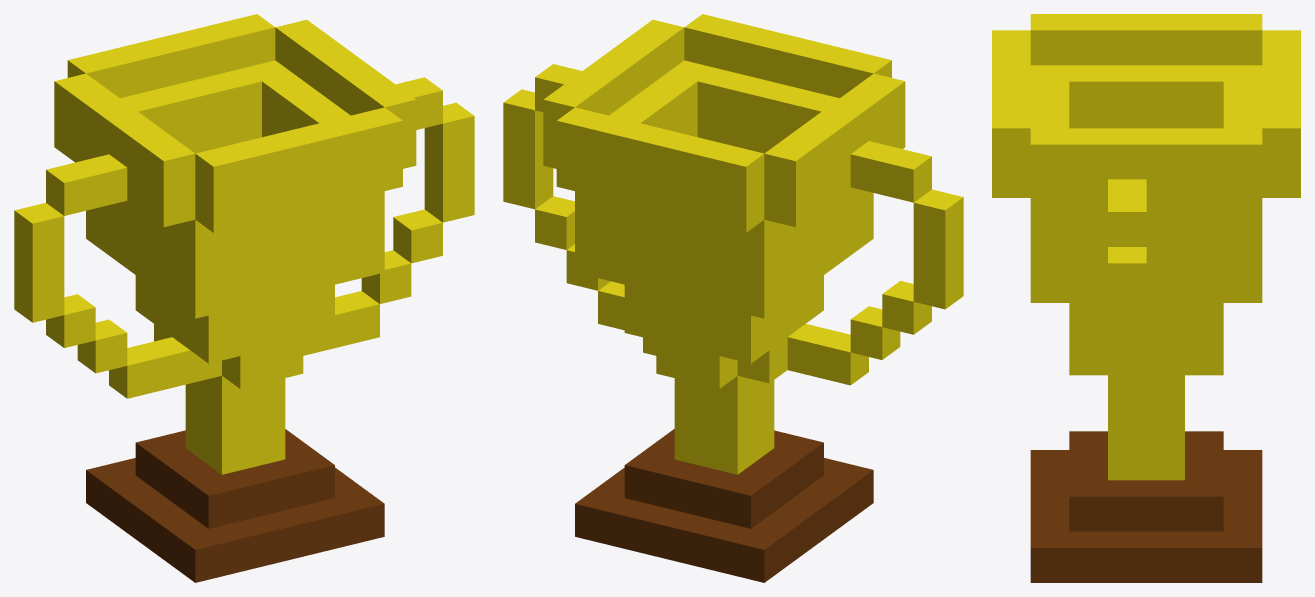
File: trophy.obj
3 renders of one model, left to right at view 1: azimuth 30°, elevation 25°; view 2: azimuth 150°, elevation 25°; view 3: azimuth 270°, elevation 25°, orthographic. The views are drawn at different scales.
Bounding box in the file's own units: 1.4 × 1.3 × 0.8.
